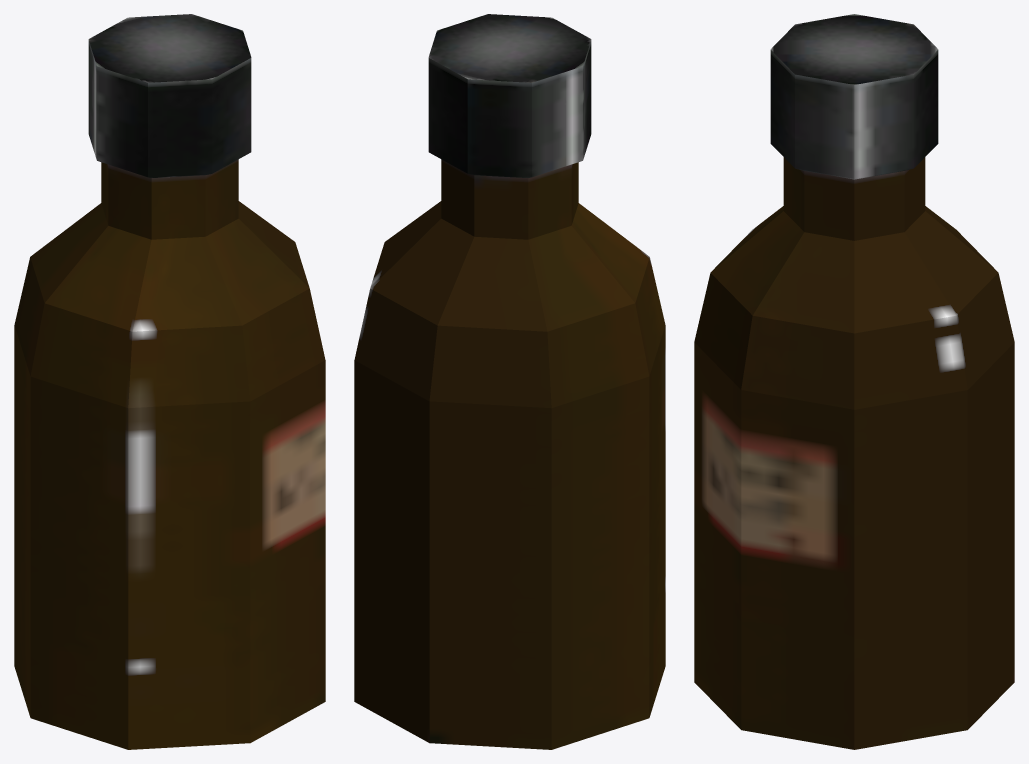
The model's file is jar_small_6.fbx.
3 views of the same model, side by side, from view 1: azimuth 30°, elevation 25°; view 2: azimuth 150°, elevation 25°; view 3: azimuth 270°, elevation 25° (orthographic).
Visible parts, largest first — view 1: mesh_0; view 2: mesh_0; view 3: mesh_0.
Part boxes in pixels (x1,y1,x2,y2): mesh_0: (14, 14, 325, 749); mesh_0: (354, 14, 665, 749); mesh_0: (694, 14, 1014, 749).
Bounding box in the file's own units: 4.59 × 10 × 4.59.
1 material, 1 textured.
